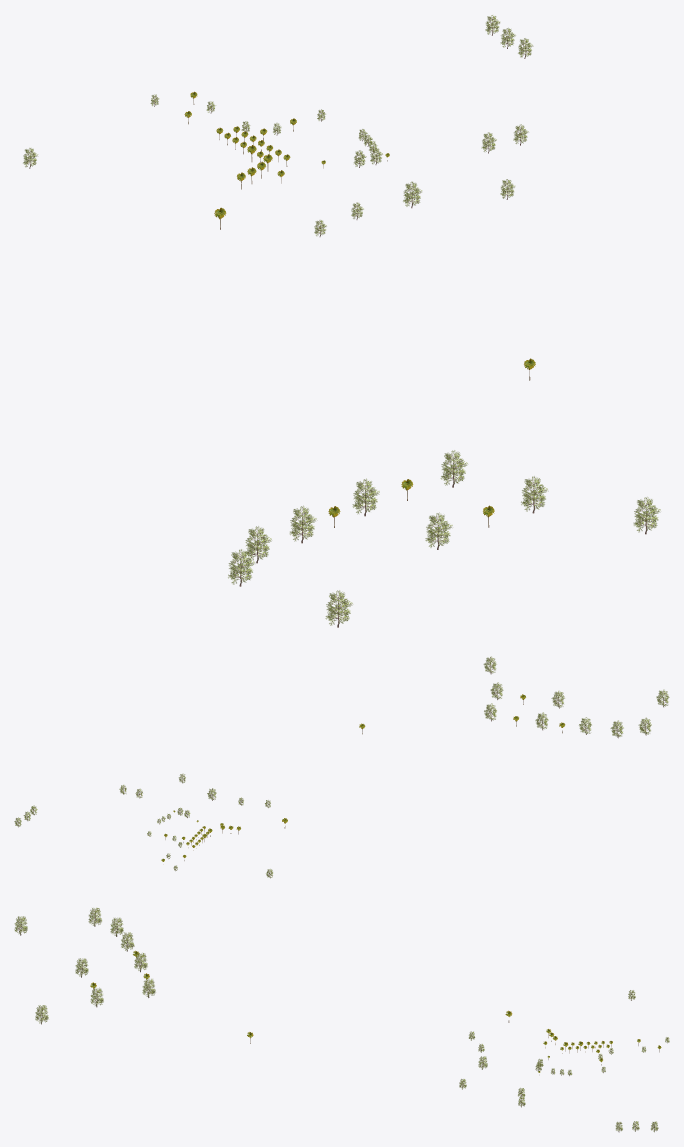
Rendered from tree.glb.
The picture shows the model from 3 angles, top to bottom: view 1: azimuth 30°, elevation 25°; view 2: azimuth 150°, elevation 25°; view 3: azimuth 270°, elevation 25°; orthographic projection. The views are drawn at different scales.
Parts seen in each view (by area): view 1: tree; view 2: tree; view 3: tree.
Part boxes in pixels (x1,y1,x2,y2): tree: [23, 15, 660, 627]; tree: [14, 656, 669, 878]; tree: [14, 908, 669, 1132].
Size of the model in its own units: 30.61 by 1.44 by 40.32.
Materials: 3 (3 with a texture image).
